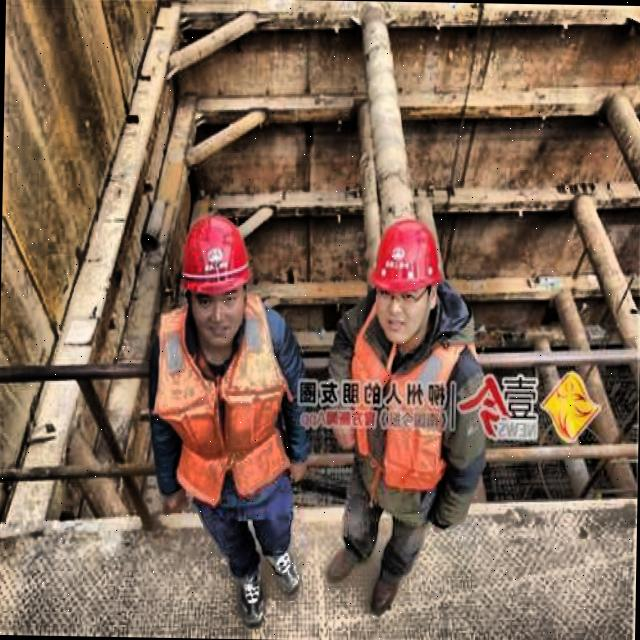helmet: (362, 206, 448, 353), (174, 210, 254, 352)
